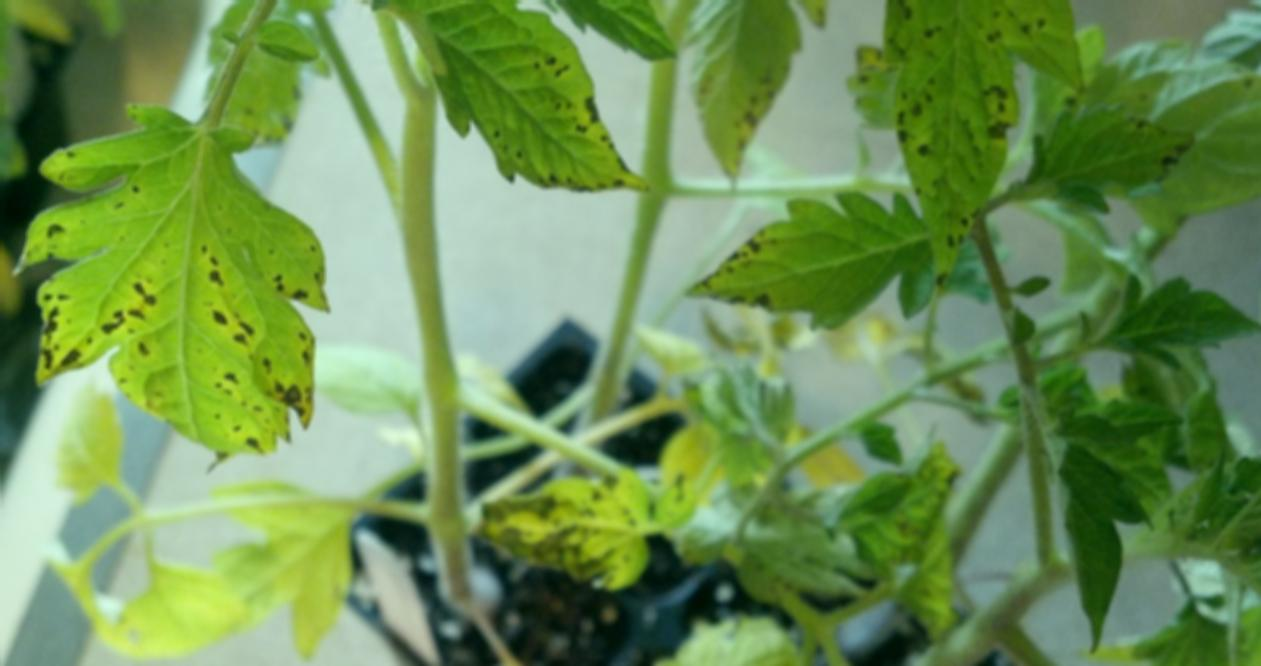Tomato Septoria leaf spot: (18, 129, 340, 507), (857, 0, 1093, 311), (354, 0, 673, 199), (671, 188, 978, 358), (461, 454, 671, 608)
